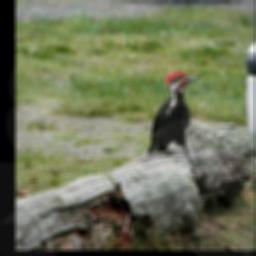Woodpecker: (146, 65, 203, 159)
